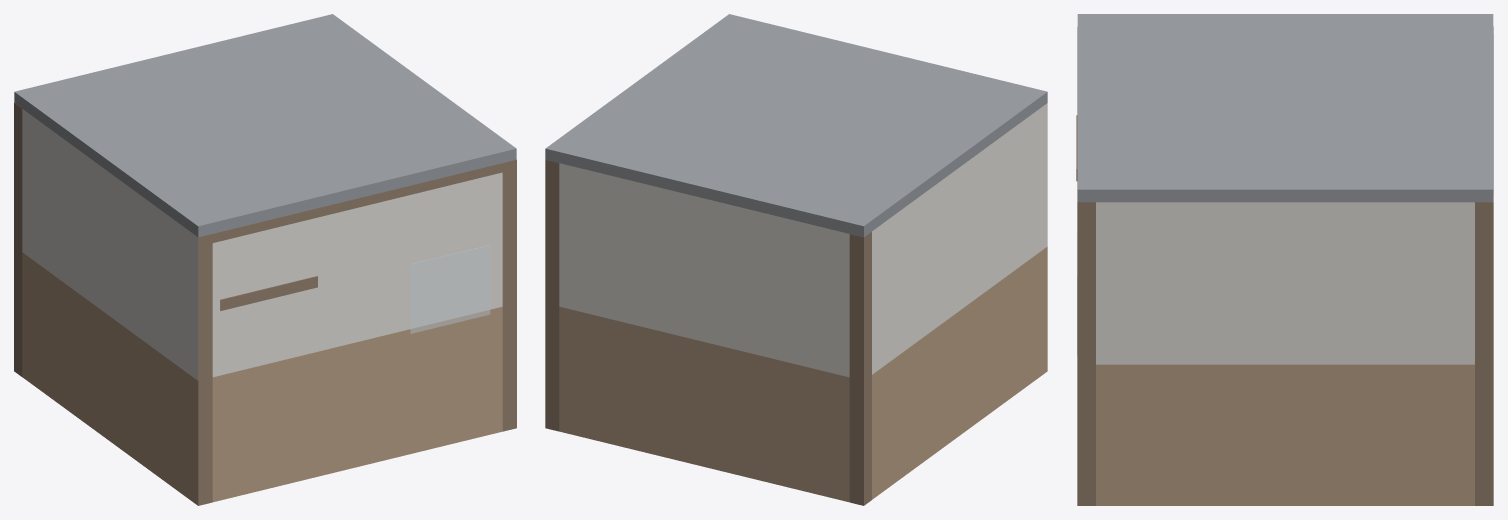
File: tack-room-bay.glb
The picture shows the model from 3 angles, left to right: view 1: azimuth 30°, elevation 25°; view 2: azimuth 150°, elevation 25°; view 3: azimuth 270°, elevation 25°; orthographic projection. The views are drawn at different scales.
Visible parts, largest first — view 1: tack-room-bay; view 2: tack-room-bay; view 3: tack-room-bay.
Part boxes in pixels (<box>): tack-room-bay: <box>14,14,516,505</box>; tack-room-bay: <box>545,14,1047,505</box>; tack-room-bay: <box>1076,14,1493,505</box>.
Bounding box in the file's own units: 3.6 × 3.02 × 3.61.
